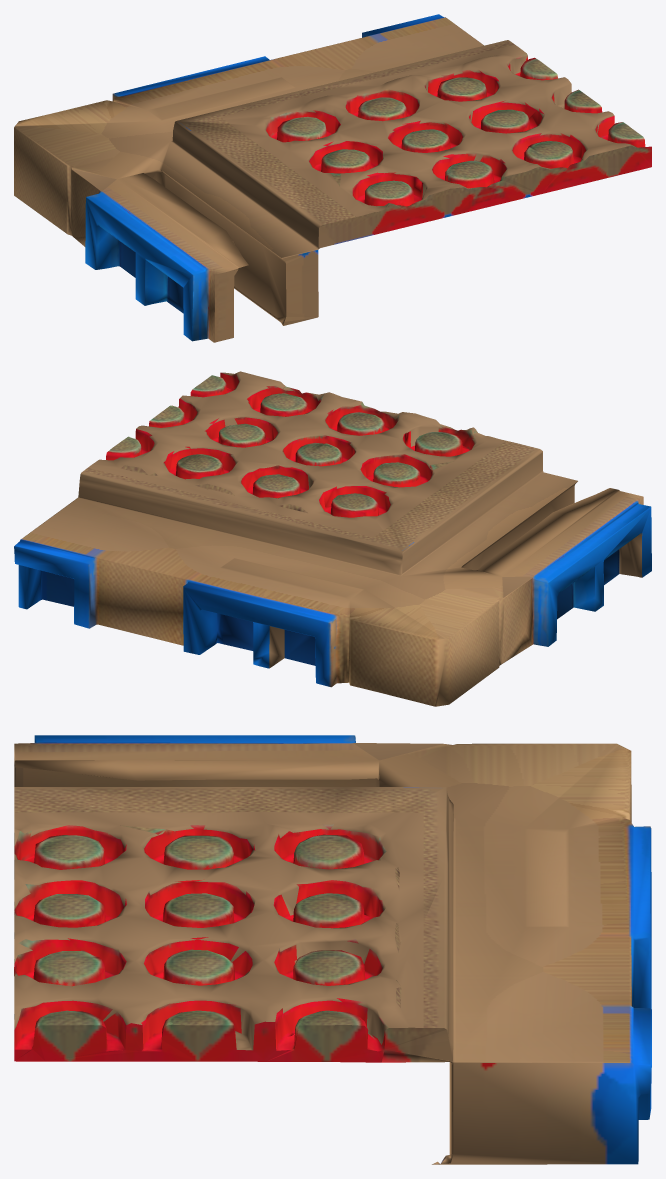
The model's file is 11-roof-back-left.fbx.
The picture shows the model from 3 angles, top to bottom: view 1: azimuth 30°, elevation 25°; view 2: azimuth 150°, elevation 25°; view 3: azimuth 270°, elevation 25°; orthographic projection. The views are drawn at different scales.
Parts seen in each view (by area): view 1: roof-back-left; view 2: roof-back-left; view 3: roof-back-left.
Boxes of the visible parts, x1=… form: roof-back-left: x1=14, y1=14, x2=651, y2=342; roof-back-left: x1=14, y1=371, x2=651, y2=706; roof-back-left: x1=14, y1=735, x2=651, y2=1164.
Size of the model in its own units: 5221 by 1078 by 4256.
Materials: 1 (1 with a texture image).
